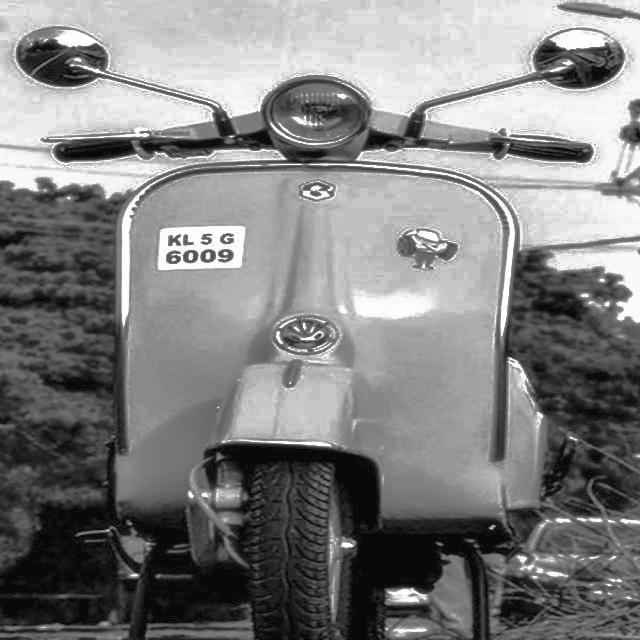Bike: (13, 34, 640, 640)
